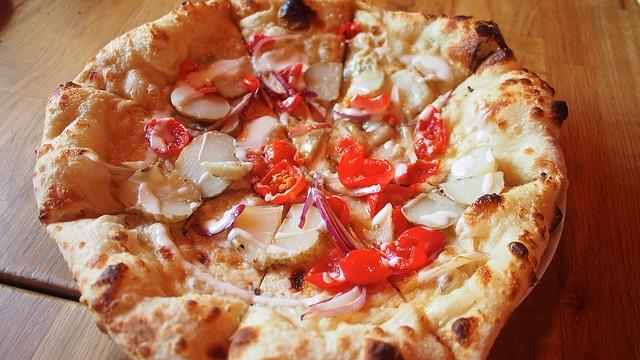onion: (313, 178, 351, 256), (317, 183, 356, 251), (299, 284, 366, 320), (438, 170, 504, 205), (202, 92, 254, 133), (193, 205, 246, 236), (302, 62, 342, 100), (310, 284, 360, 312), (252, 34, 302, 56), (200, 160, 253, 180), (288, 123, 332, 139), (269, 71, 296, 97)
tomato: (337, 150, 395, 192), (256, 158, 306, 204), (366, 182, 422, 220), (339, 248, 393, 284), (414, 104, 446, 160), (304, 248, 346, 288), (144, 118, 190, 152), (396, 227, 446, 258), (179, 58, 218, 93), (312, 195, 350, 228), (399, 159, 440, 186), (263, 140, 299, 167), (350, 92, 391, 112), (336, 134, 366, 158), (246, 33, 276, 56), (279, 62, 303, 88), (274, 92, 302, 112), (242, 76, 260, 94), (346, 21, 362, 39), (338, 21, 350, 41)
